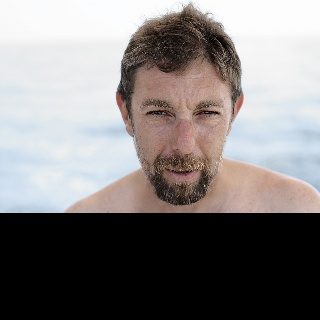without_mask: (128, 60, 230, 205)
